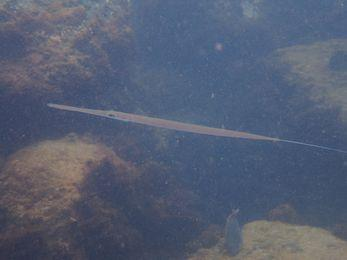Fistularia commersonii: (34, 88, 284, 159)
